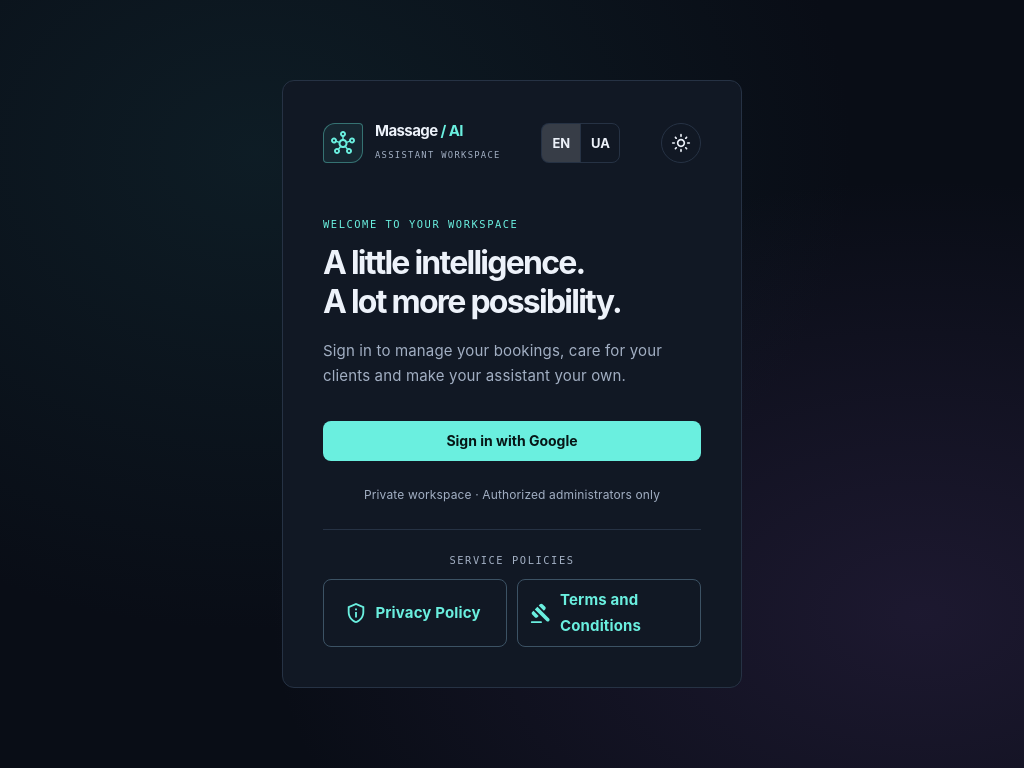
Scenario: admin theme preference › still switches when storage is blocked
Step 1. Click the button named "Switch to day theme" → (681, 143), box [661,123,701,163]
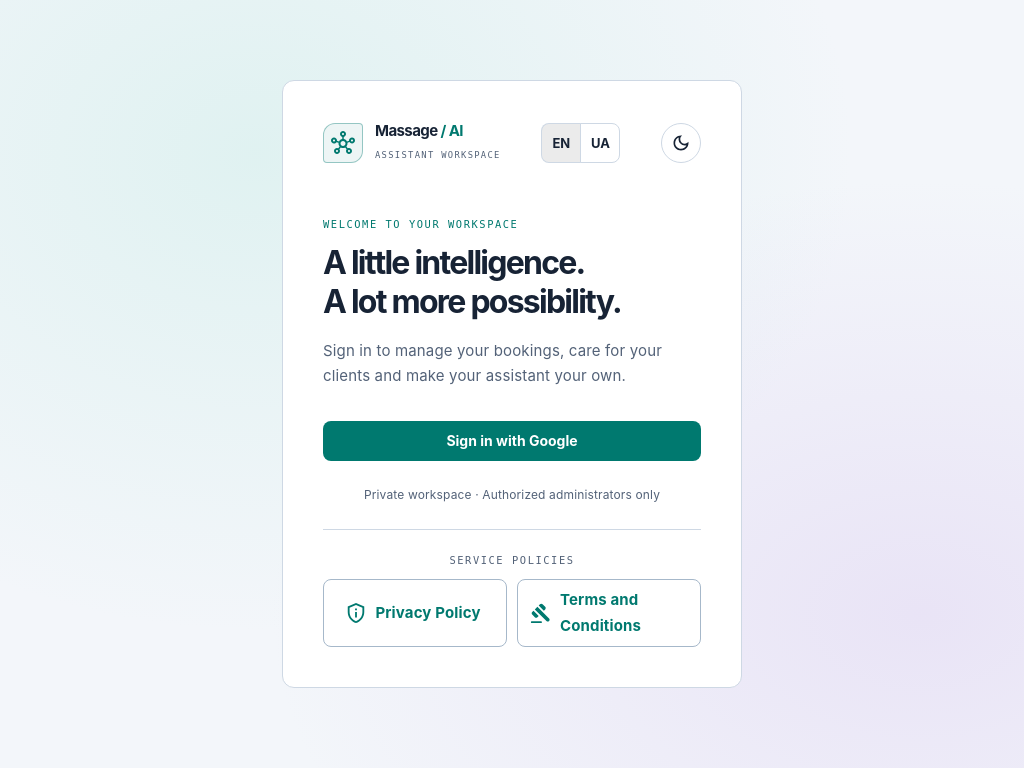
expect the button named "Switch to night theme" is shown: met, box [661,123,701,163]
